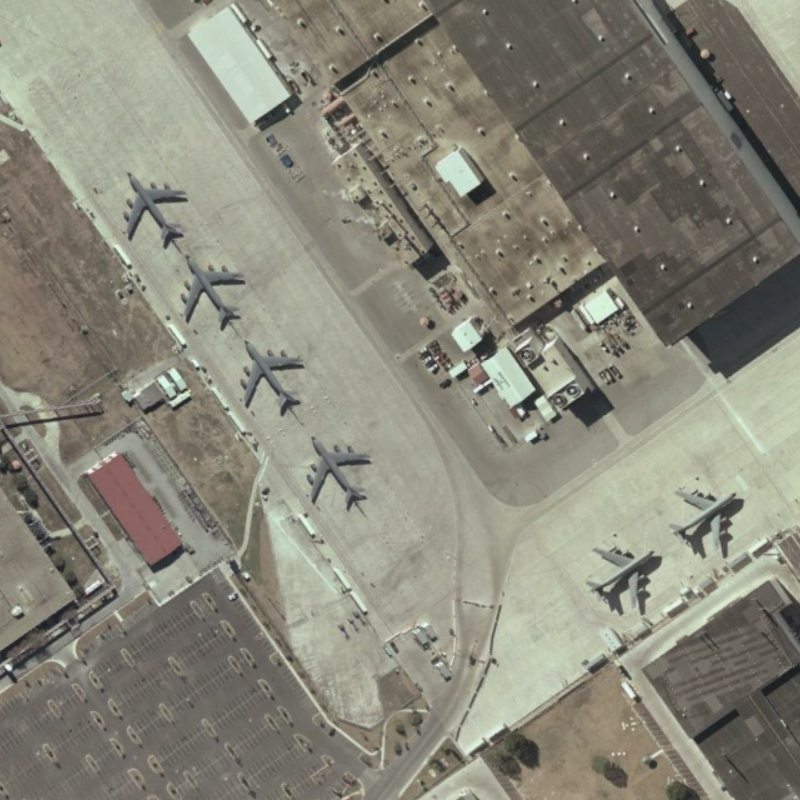A14: (116, 157, 198, 250), (302, 425, 382, 514), (230, 330, 309, 416), (664, 475, 744, 559), (171, 248, 249, 334), (586, 533, 662, 614)
